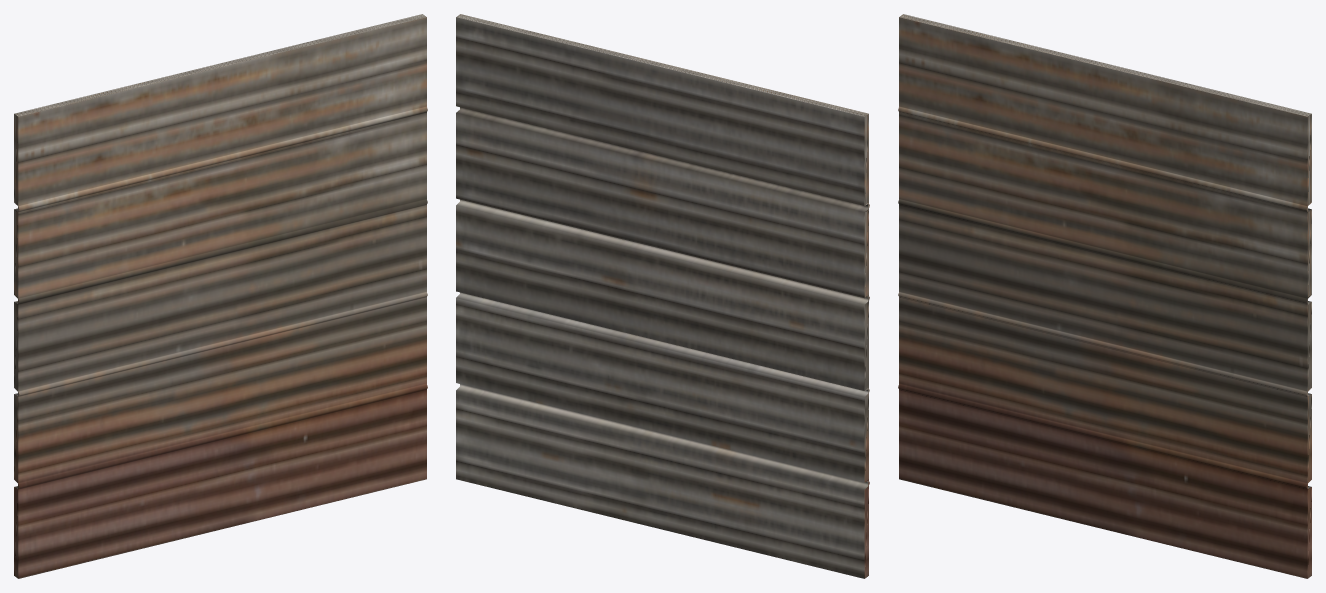
File: metalGate.fbx
3 views of the same model, side by side, from view 1: azimuth 30°, elevation 25°; view 2: azimuth 150°, elevation 25°; view 3: azimuth 330°, elevation 25° (orthographic).
Visible parts, largest first — view 1: pCube358; view 2: pCube358; view 3: pCube358.
Boxes of the visible parts, x1,y1,x2,y2 form: pCube358: [14, 14, 427, 578]; pCube358: [456, 14, 869, 578]; pCube358: [898, 14, 1311, 578].
Size of the model in its own units: 8.51 by 9.2 by 0.1901.
1 material, 1 textured.
